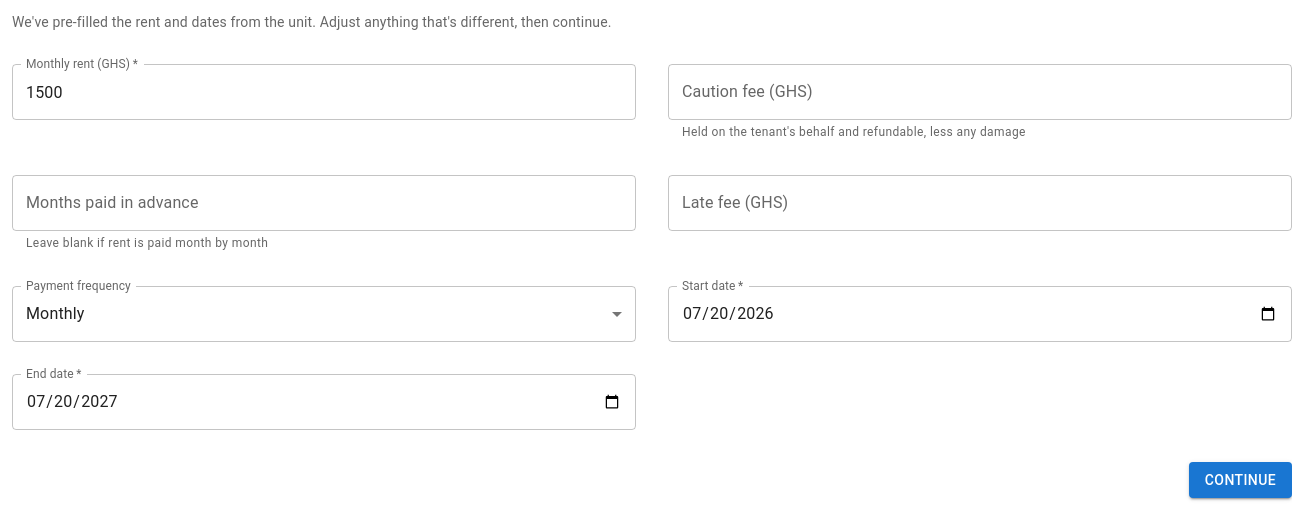
Scenario: LeaseTermsStep › refuses an advance longer than the lease itself
The image size is (1304, 518).
Note: Default lease is 12 months from the carried start date.
In the number field labelled "Months paid in advance": [324, 203] box [12,175,636,231], type "24"
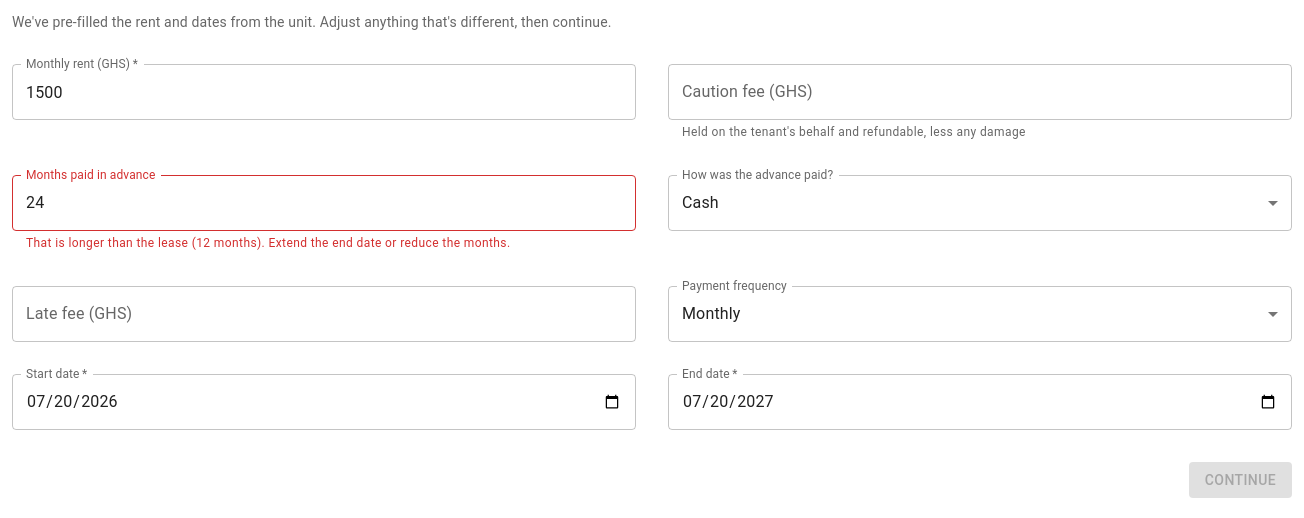
Expected: the text "longer than the lease" is shown, [26,236,510,250]
Expected: the button "Continue" is disabled, [1189,462,1292,498]
